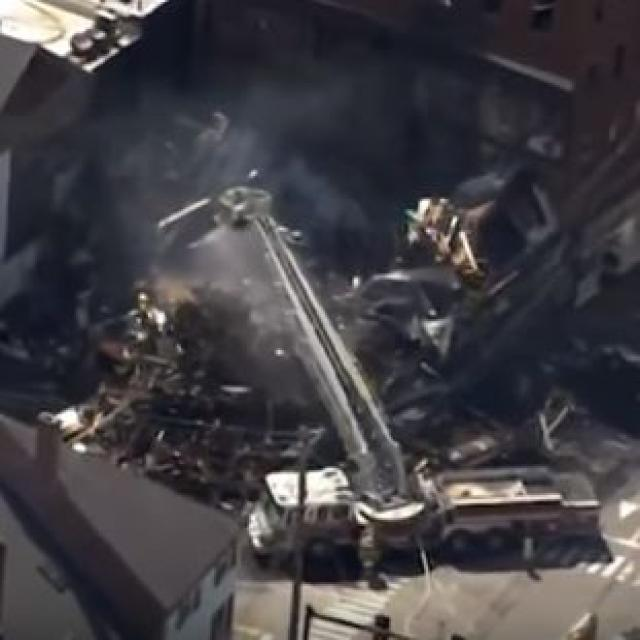collapsed_building: (72, 97, 560, 495)
